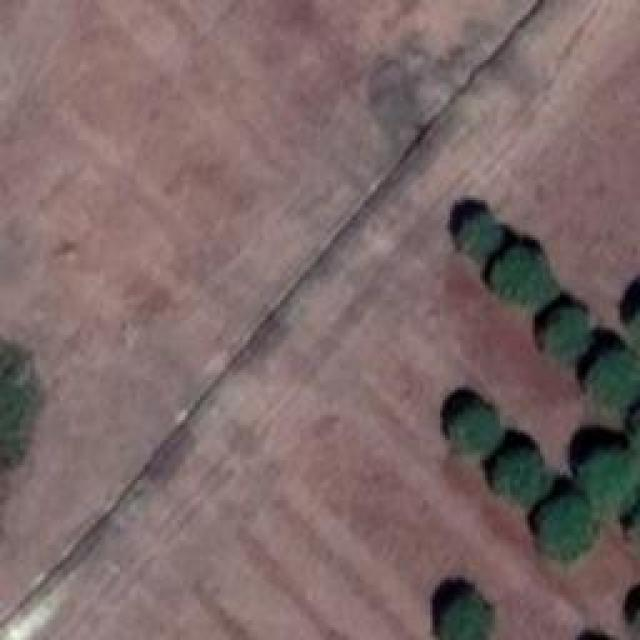Tree: (488, 248, 551, 303), (543, 495, 596, 553), (580, 450, 635, 505), (542, 305, 590, 363), (495, 445, 543, 500), (587, 353, 635, 406), (450, 405, 498, 458), (443, 595, 483, 640), (460, 213, 500, 256)
